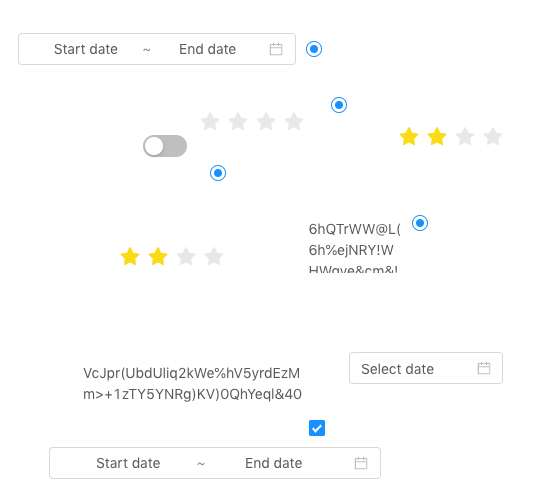Checkbox: (309, 417, 325, 438)
DatePicker: (349, 352, 503, 384)
Radio: (412, 212, 428, 232), (306, 38, 322, 58), (331, 94, 347, 114), (210, 162, 226, 182)
RangePicker: (49, 447, 398, 479), (18, 33, 296, 65)
Rate: (120, 240, 240, 272), (200, 105, 320, 137), (399, 120, 519, 152)
Switch: (143, 134, 187, 158)
Text: (83, 362, 309, 402), (309, 218, 404, 273)
